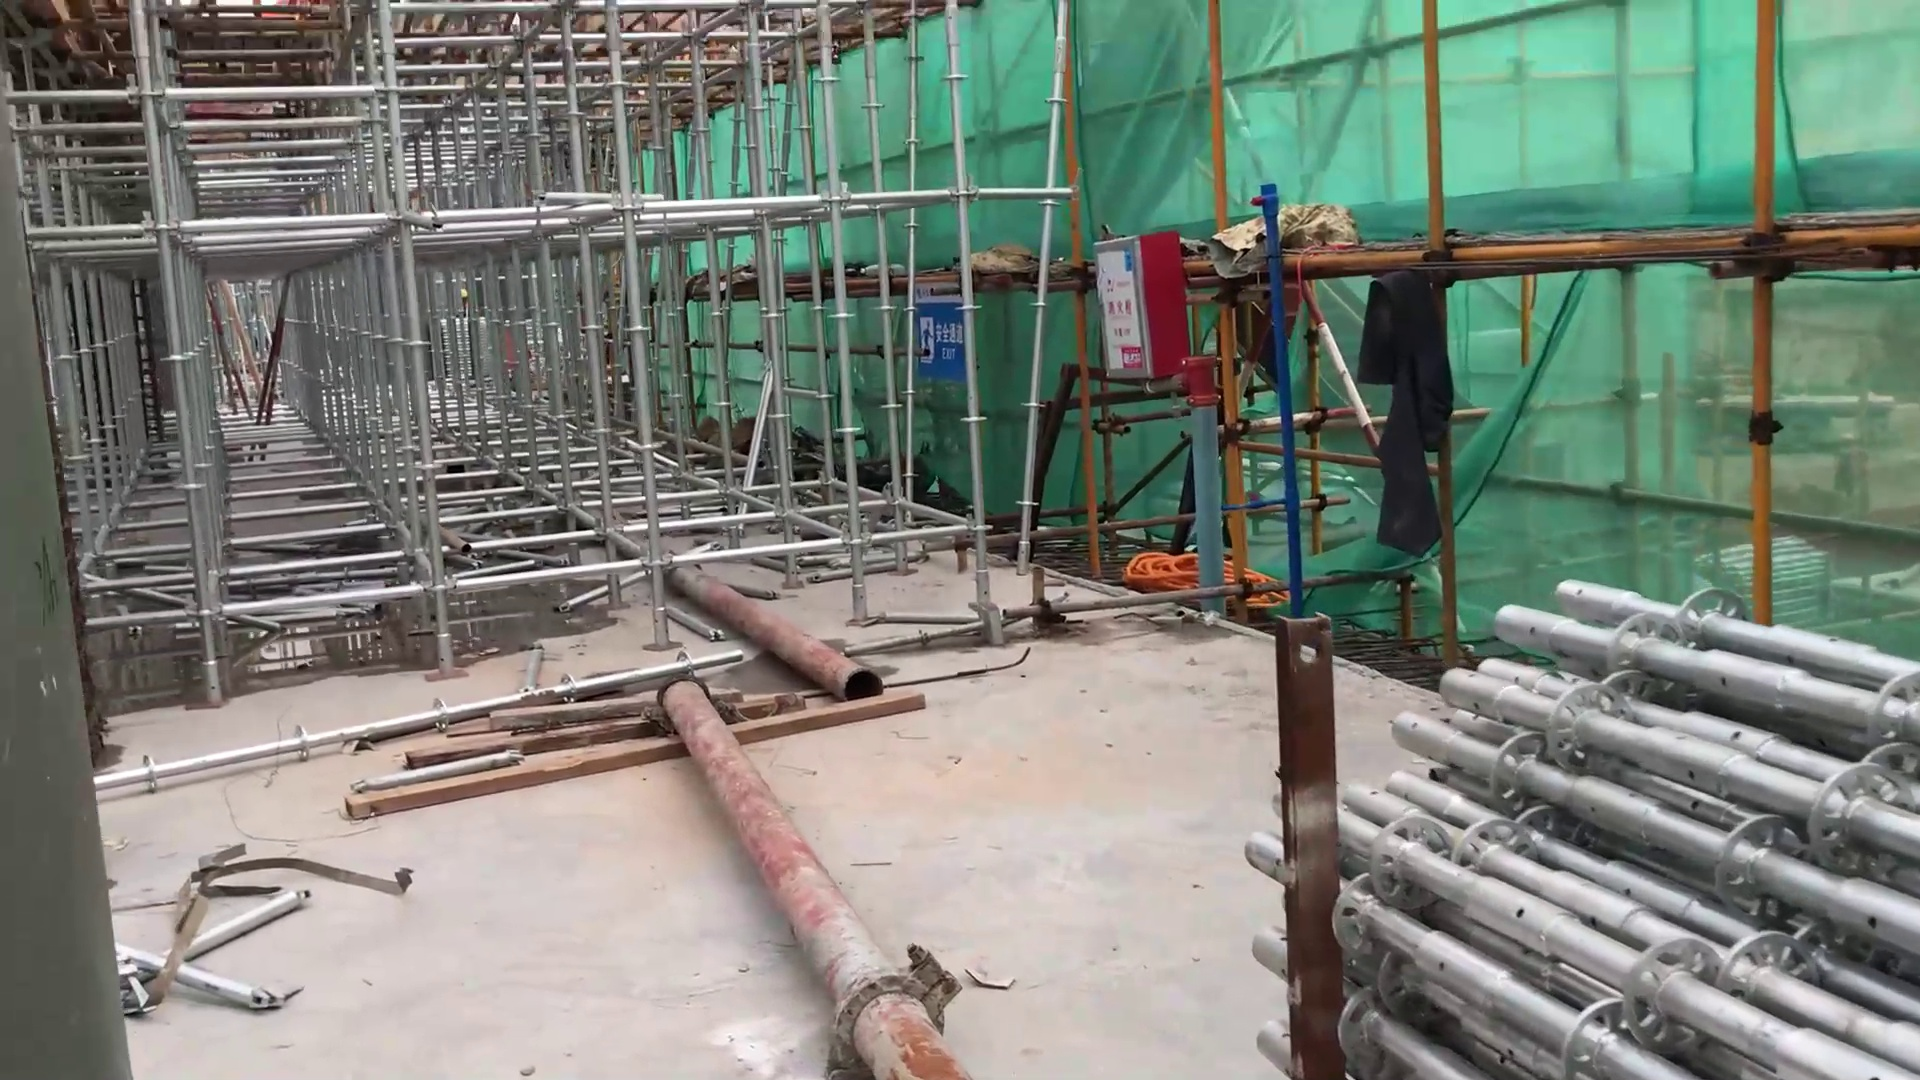scaffold: (1321, 568, 1917, 1080)
slogan: (907, 282, 967, 388)
